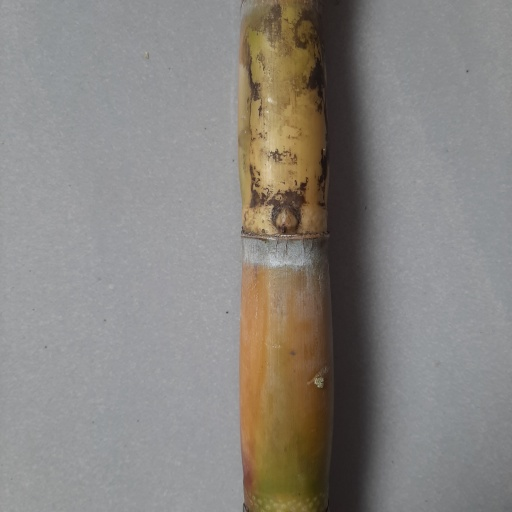Bud: (271, 205, 300, 232)
